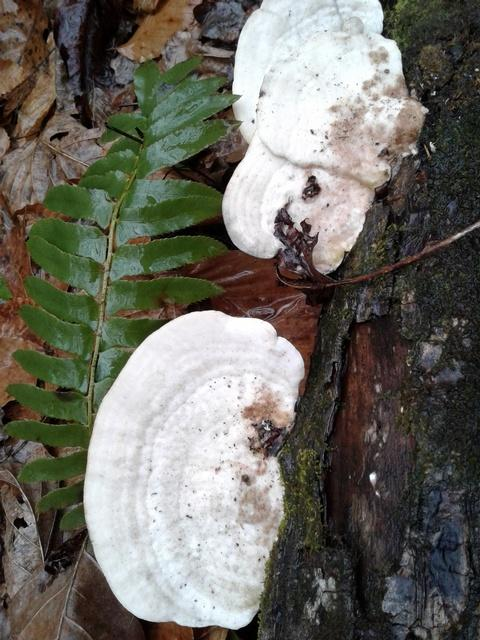poisonous_mushroom: (81, 308, 305, 632), (220, 0, 428, 277)
